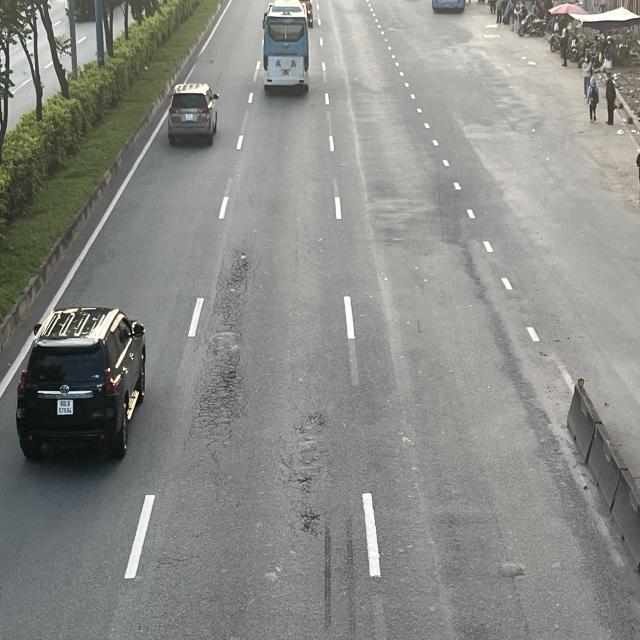car: (16, 304, 149, 459), (169, 81, 222, 145)
coach: (261, 3, 312, 95)
